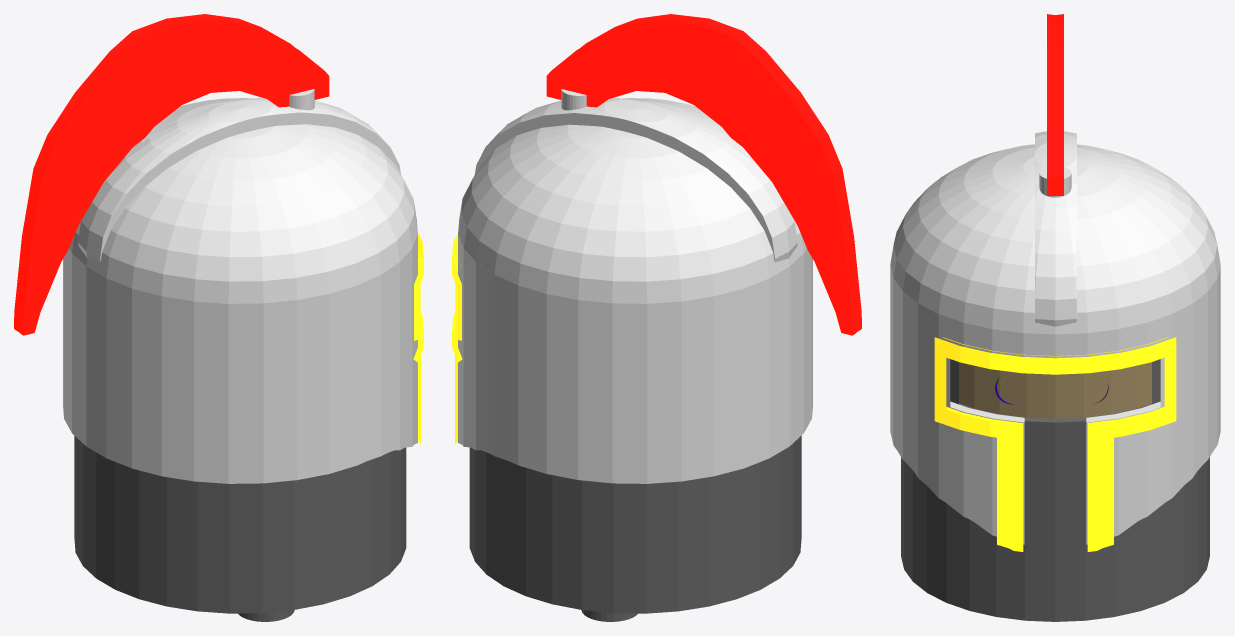
File: MainCharacter.fbx
3 views of the same model, side by side, from view 1: azimuth 30°, elevation 25°; view 2: azimuth 150°, elevation 25°; view 3: azimuth 270°, elevation 25° (orthographic). The views are drawn at different scales.
Parts seen in each view (by area): view 1: Helmet, Character; view 2: Helmet, Character; view 3: Helmet, Character.
Boxes of the visible parts, x1,y1,x2,y2 form: Helmet: [14, 14, 423, 483]; Character: [74, 435, 406, 621]; Helmet: [452, 14, 861, 483]; Character: [469, 435, 801, 621]; Helmet: [890, 14, 1220, 551]; Character: [901, 359, 1209, 621].
Bounding box in the file's own units: 264 × 389 × 214.
